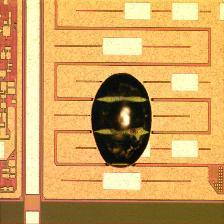PO CONTAMINATION: (84, 70, 160, 176)
